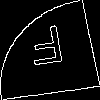F: (25, 25, 70, 75)
